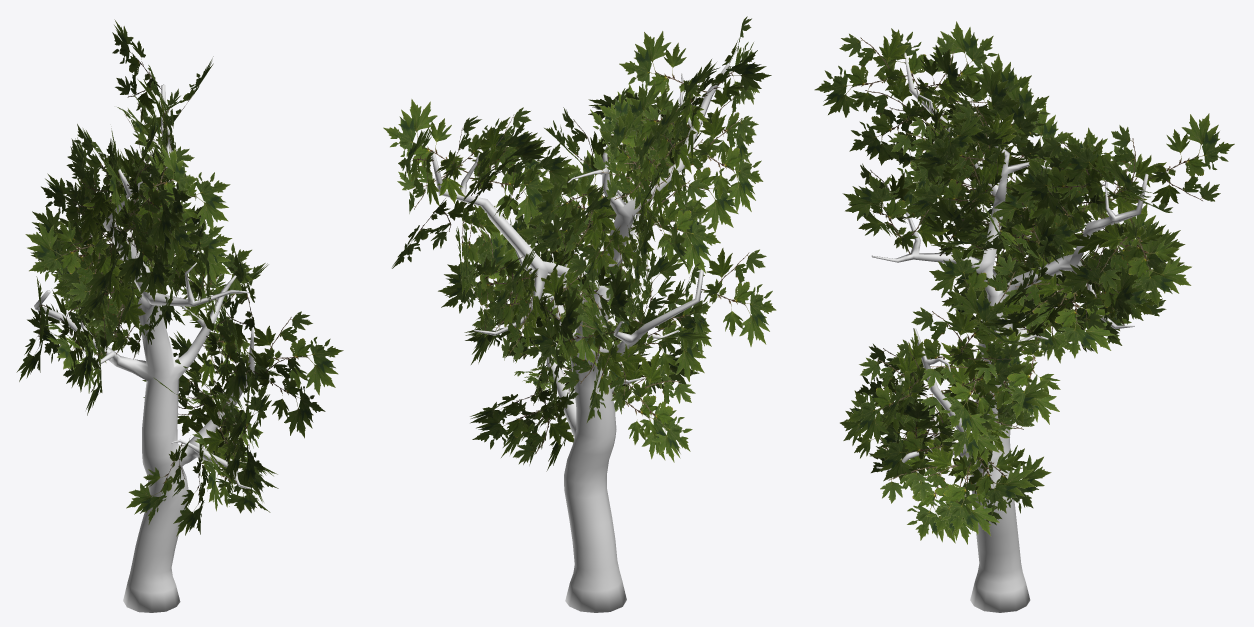
Rendered from Tree_1 (2).fbx.
3 views of the same model, side by side, from view 1: azimuth 30°, elevation 25°; view 2: azimuth 150°, elevation 25°; view 3: azimuth 270°, elevation 25° (orthographic). The views are drawn at different scales.
Visible parts, largest first — view 1: Stronk, Stronk|Blad|Dupli|1, Stronk|Blad|Dupli|43, Stronk|Blad|Dupli|46, Stronk|Blad|Dupli|49, Stronk|Blad|Dupli|8, Stronk|Blad|Dupli|32, Stronk|Blad|Dupli|89, Stronk|Blad|Dupli|98, Stronk|Blad|Dupli|39, Stronk|Blad|Dupli|97, Stronk|Blad|Dupli|95 (+41 smaller); view 2: Stronk, Stronk|Blad|Dupli|80, Stronk|Blad|Dupli|48, Stronk|Blad|Dupli|36, Stronk|Blad|Dupli|9, Stronk|Blad|Dupli|98, Stronk|Blad|Dupli|58, Stronk|Blad|Dupli|, Stronk|Blad|Dupli|85, Stronk|Blad|Dupli|38, Stronk|Blad|Dupli|37, Stronk|Blad|Dupli|93 (+47 smaller); view 3: Stronk, Stronk|Blad|Dupli|90, Stronk|Blad|Dupli|89, Stronk|Blad|Dupli|8, Stronk|Blad|Dupli|31, Stronk|Blad|Dupli|44, Stronk|Blad|Dupli|46, Stronk|Blad|Dupli|21, Stronk|Blad|Dupli|11, Stronk|Blad|Dupli|88, Stronk|Blad|Dupli|25, Stronk|Blad|Dupli|7 (+58 smaller).
Boxes of the visible parts, bbox=[...] form: Stronk: bbox=[34, 84, 258, 612]; Stronk|Blad|Dupli|1: bbox=[25, 220, 124, 302]; Stronk|Blad|Dupli|43: bbox=[247, 311, 343, 395]; Stronk|Blad|Dupli|46: bbox=[247, 347, 325, 438]; Stronk|Blad|Dupli|49: bbox=[142, 146, 230, 230]; Stronk|Blad|Dupli|8: bbox=[117, 155, 182, 250]; Stronk|Blad|Dupli|32: bbox=[197, 306, 256, 404]; Stronk|Blad|Dupli|89: bbox=[112, 19, 161, 122]; Stronk|Blad|Dupli|98: bbox=[126, 438, 189, 524]; Stronk|Blad|Dupli|39: bbox=[109, 189, 202, 264]; Stronk|Blad|Dupli|97: bbox=[194, 384, 271, 461]; Stronk|Blad|Dupli|95: bbox=[108, 210, 178, 301]; Stronk: bbox=[431, 62, 730, 612]; Stronk|Blad|Dupli|80: bbox=[701, 248, 776, 346]; Stronk|Blad|Dupli|48: bbox=[693, 107, 763, 211]; Stronk|Blad|Dupli|36: bbox=[383, 99, 468, 203]; Stronk|Blad|Dupli|9: bbox=[619, 31, 708, 133]; Stronk|Blad|Dupli|98: bbox=[627, 351, 695, 462]; Stronk|Blad|Dupli|58: bbox=[521, 316, 626, 391]; Stronk|Blad|Dupli|: bbox=[637, 178, 720, 273]; Stronk|Blad|Dupli|85: bbox=[472, 399, 573, 464]; Stronk|Blad|Dupli|38: bbox=[526, 175, 616, 255]; Stronk|Blad|Dupli|37: bbox=[469, 131, 553, 228]; Stronk|Blad|Dupli|93: bbox=[599, 107, 651, 218]; Stronk: bbox=[871, 52, 1148, 612]; Stronk|Blad|Dupli|90: bbox=[1093, 217, 1191, 307]; Stronk|Blad|Dupli|89: bbox=[1147, 113, 1234, 209]; Stronk|Blad|Dupli|8: bbox=[814, 29, 909, 117]; Stronk|Blad|Dupli|31: bbox=[842, 173, 949, 254]; Stronk|Blad|Dupli|44: bbox=[943, 283, 1023, 381]; Stronk|Blad|Dupli|46: bbox=[846, 342, 928, 444]; Stronk|Blad|Dupli|21: bbox=[929, 245, 1030, 328]; Stronk|Blad|Dupli|11: bbox=[1065, 125, 1166, 202]; Stronk|Blad|Dupli|88: bbox=[910, 445, 999, 535]; Stronk|Blad|Dupli|25: bbox=[1026, 271, 1116, 358]; Stronk|Blad|Dupli|7: bbox=[849, 68, 925, 165].
Size of the model in its own units: 435 by 737 by 529.
Materials: 2 (1 with a texture image).
